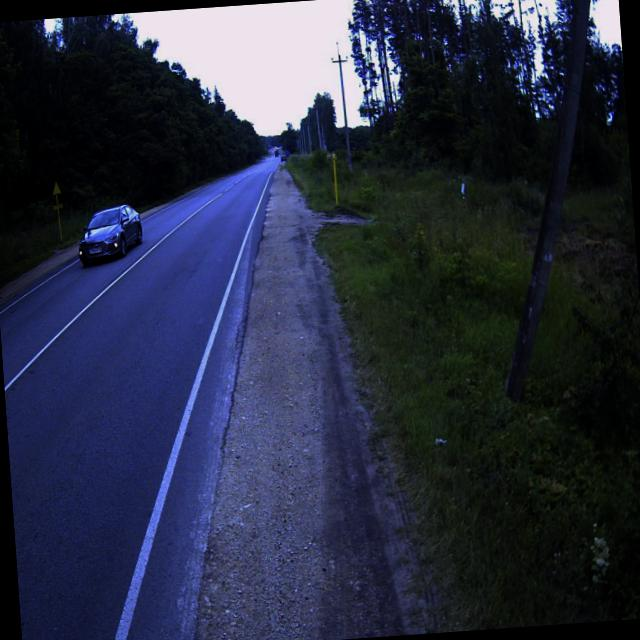road: (0, 156, 281, 640)
